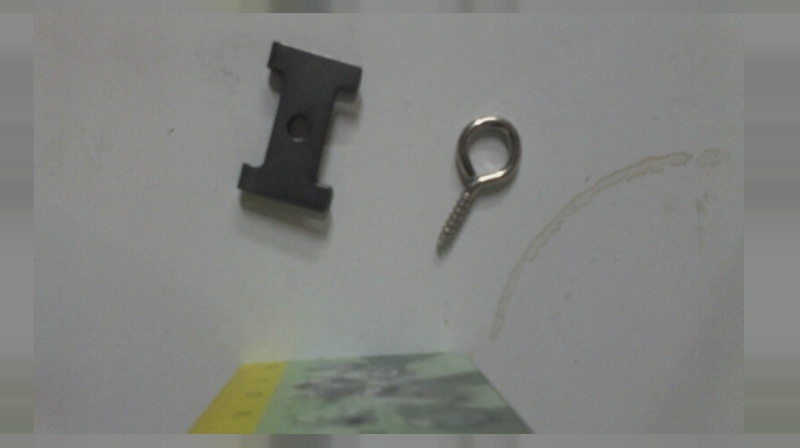O001: (430, 110, 526, 262)
O002: (233, 38, 365, 215)
